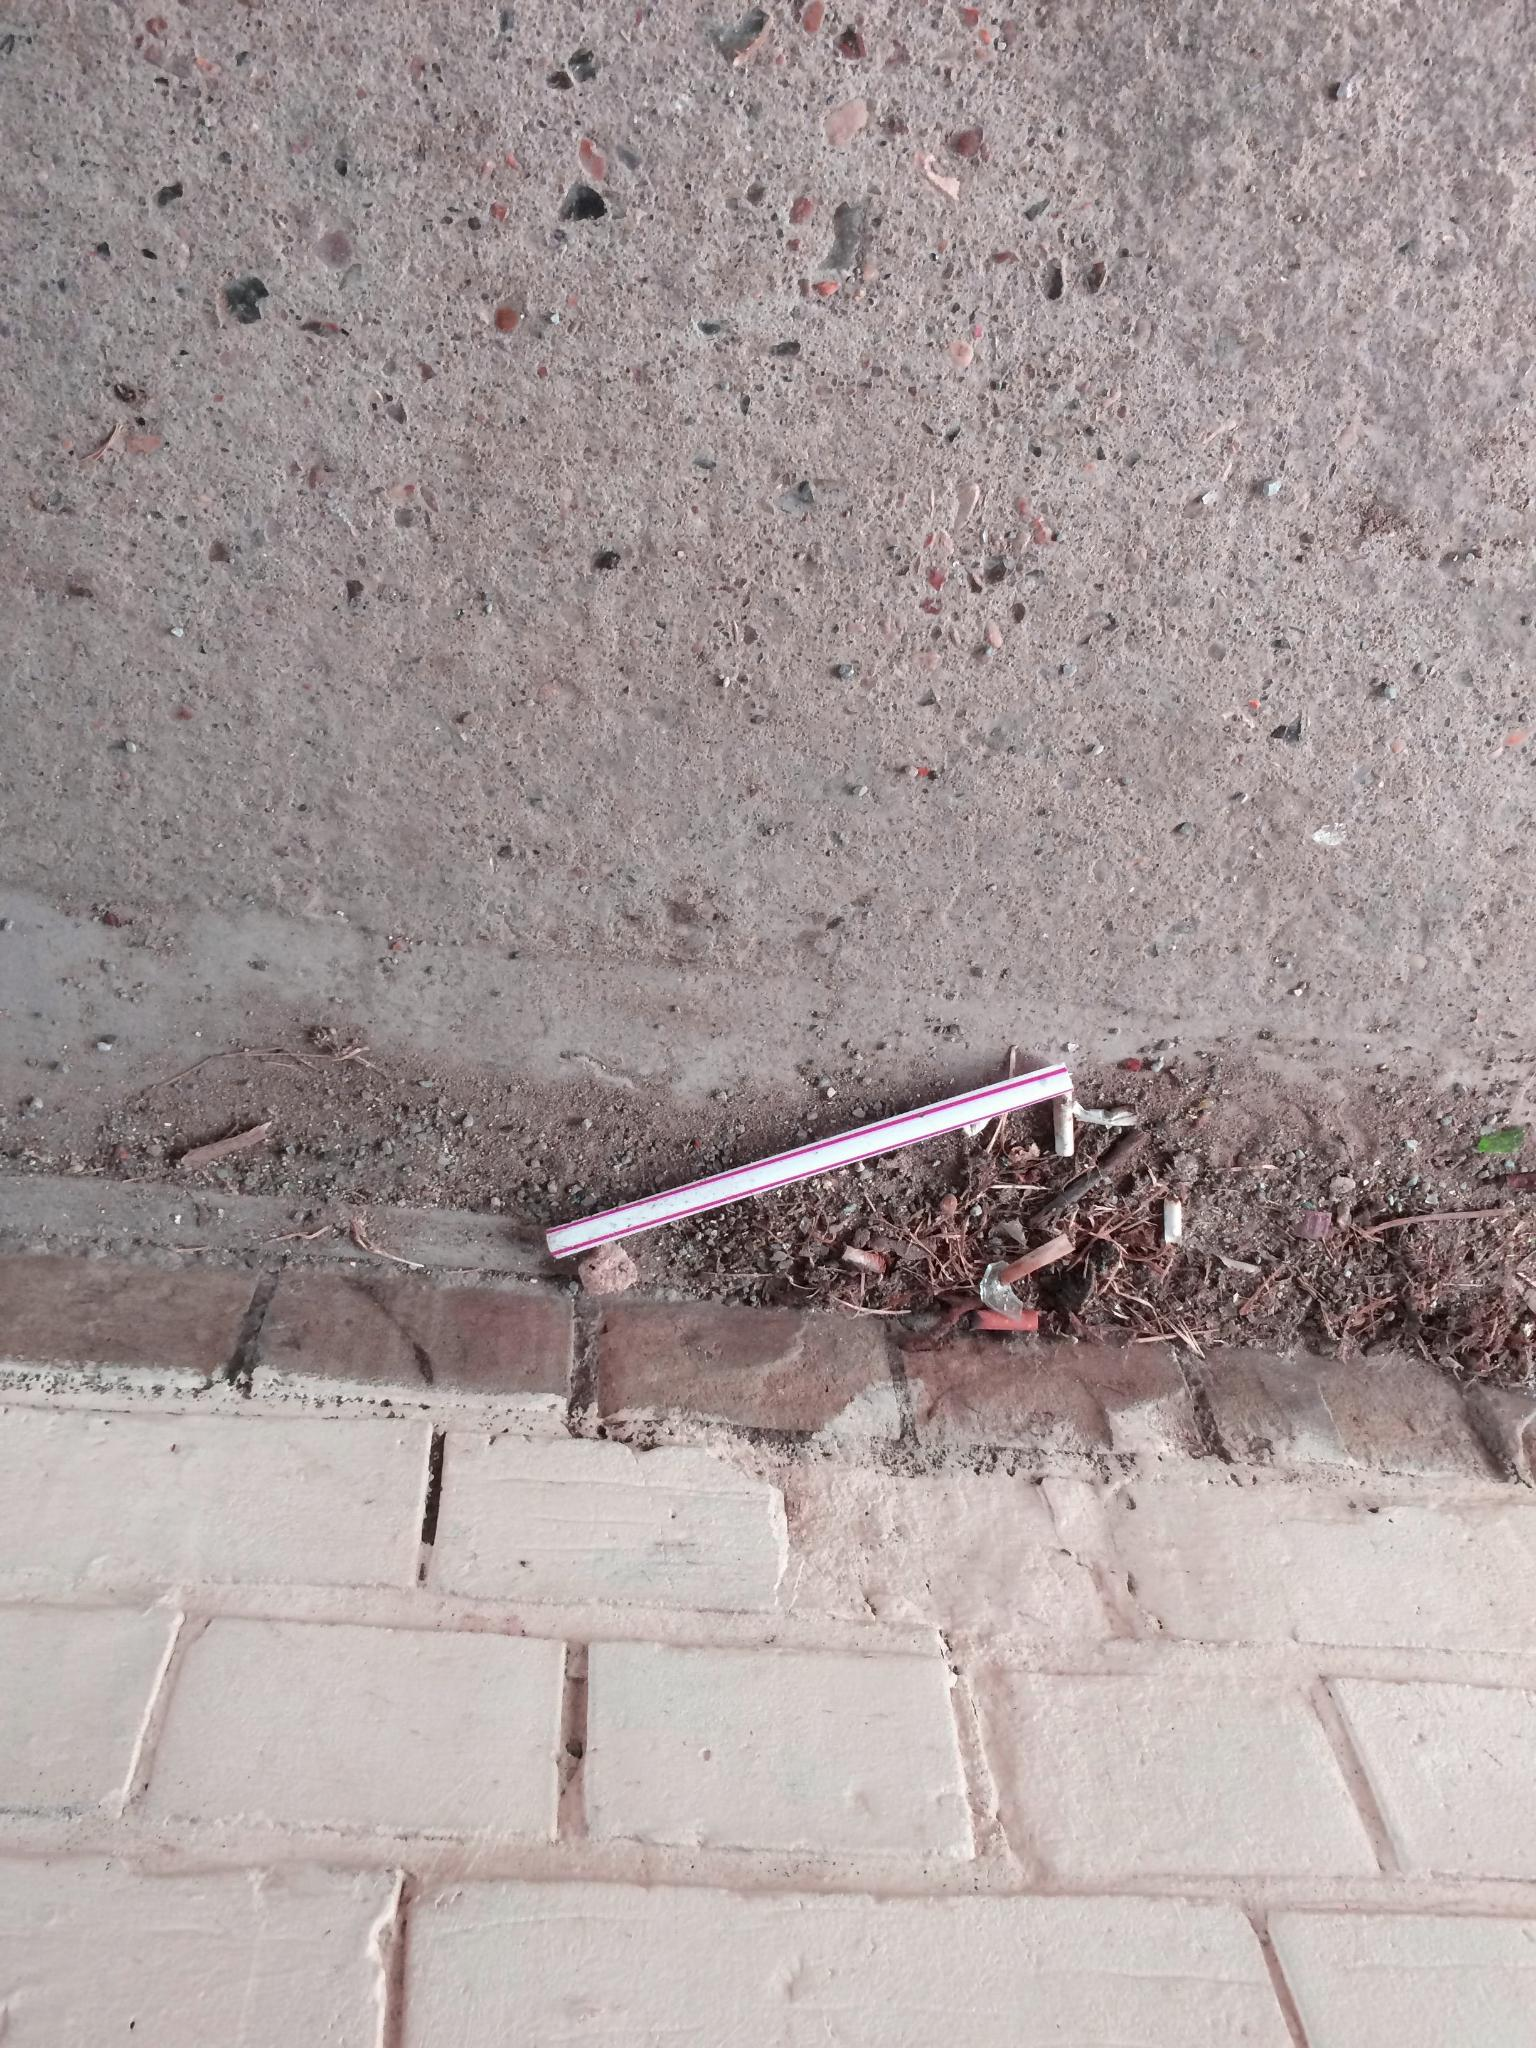Plastic: (528, 1043, 1094, 1285)
